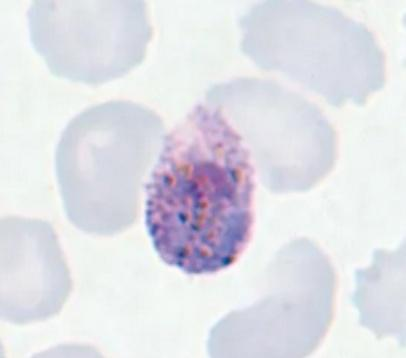Infected: (144, 103, 255, 274)
Uninfected: (205, 235, 338, 358), (205, 77, 341, 195), (241, 0, 386, 108), (55, 98, 166, 236), (24, 0, 153, 85), (0, 219, 74, 322)
